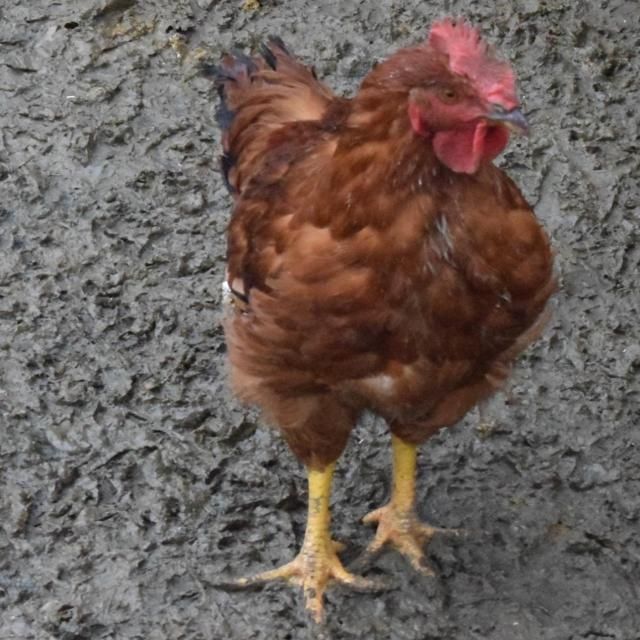cook: (211, 15, 572, 626)
